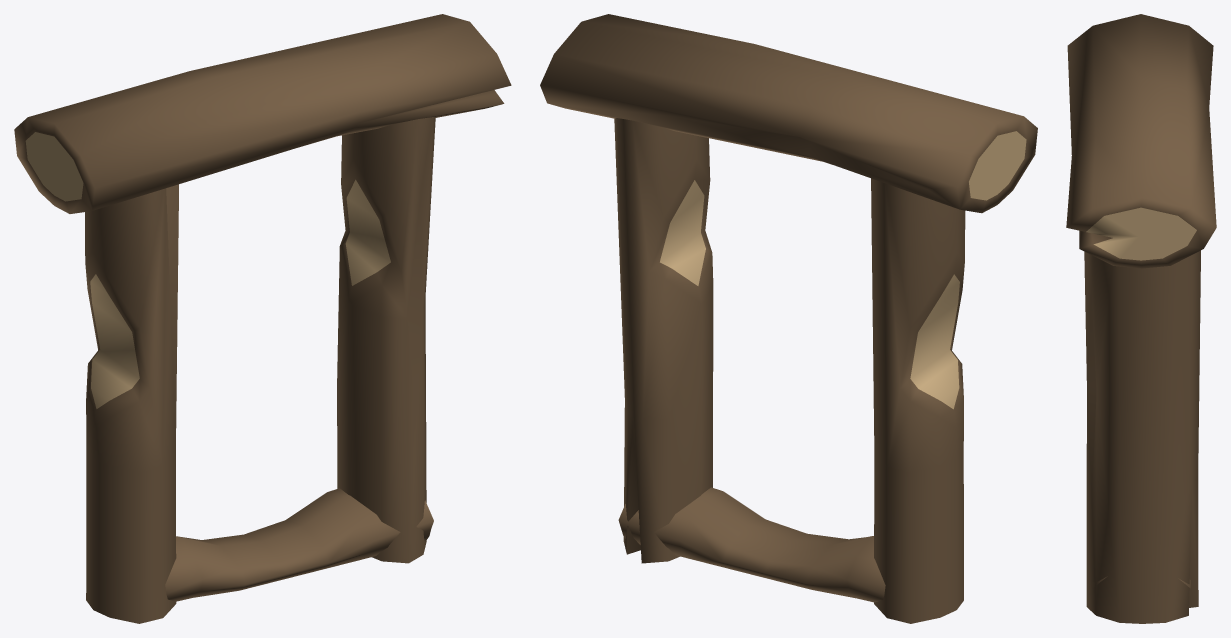
The model's file is rpgpp_av_door_frame_01.gltf.
The picture shows the model from 3 angles, left to right: view 1: azimuth 30°, elevation 25°; view 2: azimuth 150°, elevation 25°; view 3: azimuth 270°, elevation 25°; orthographic projection. The views are drawn at different scales.
Parts seen in each view (by area): view 1: rpgpp_av_door_frame_01; view 2: rpgpp_av_door_frame_01; view 3: rpgpp_av_door_frame_01.
Boxes of the visible parts, x1,y1,x2,y2 form: rpgpp_av_door_frame_01: (14, 14, 511, 623); rpgpp_av_door_frame_01: (540, 14, 1037, 623); rpgpp_av_door_frame_01: (1066, 14, 1216, 623).
Size of the model in its own units: 0.0267 by 0.031 by 0.00925.
Materials: 1 (1 with a texture image).
